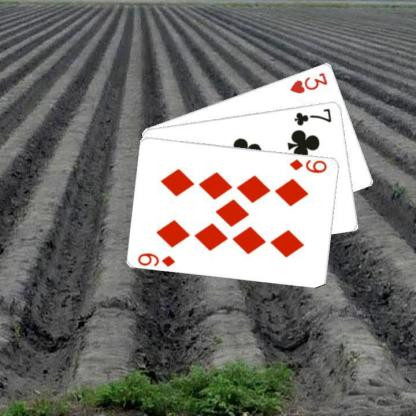3H: (287, 69, 329, 95)
7C: (292, 105, 333, 127)
9D: (287, 156, 329, 174), (135, 250, 177, 268)
